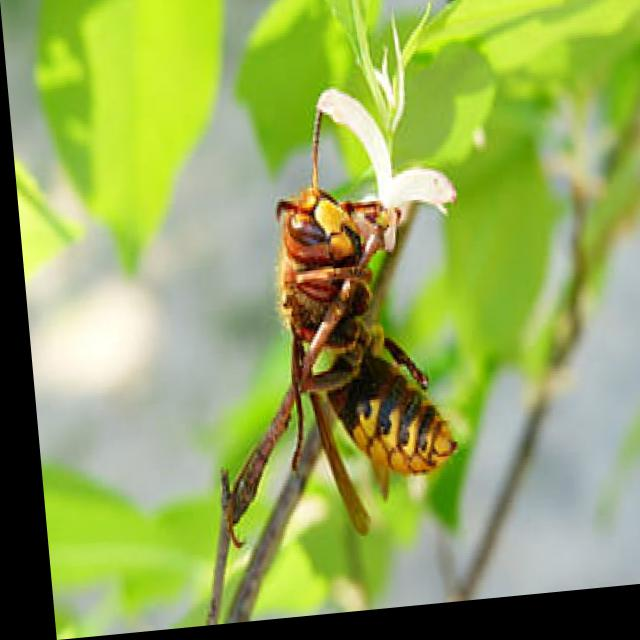Vespa Crabro: (173, 84, 458, 556)
